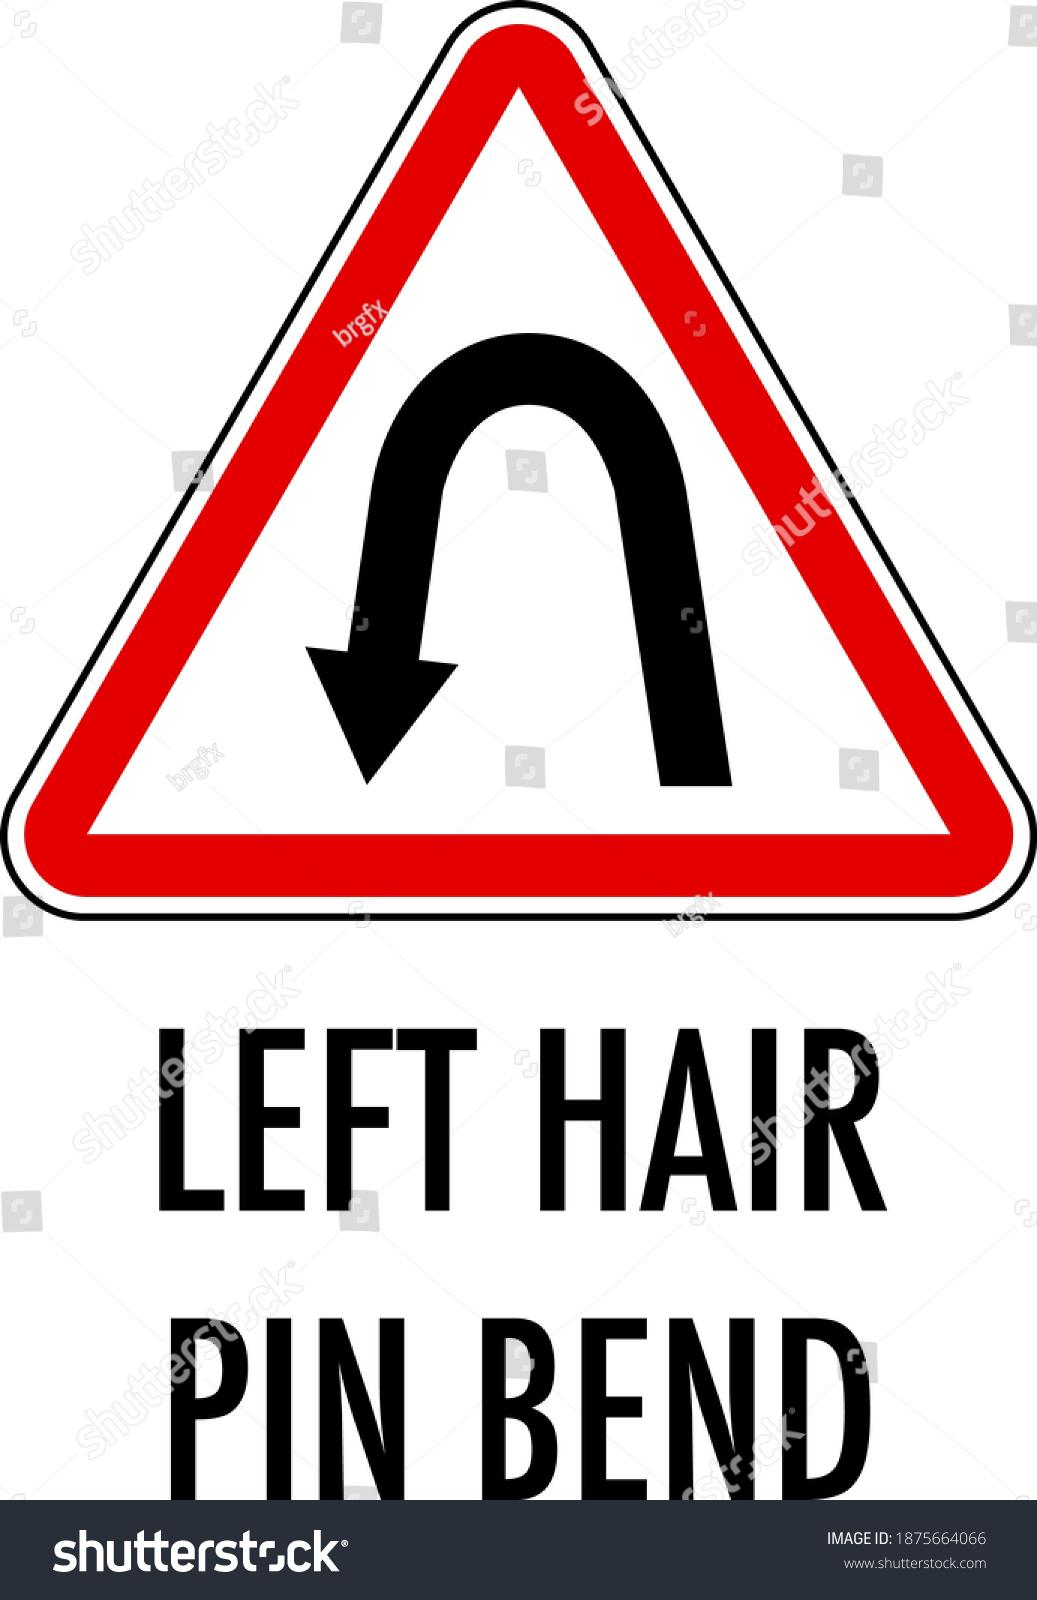Left Hair Pin Bend: (34, 41, 1031, 1252)
